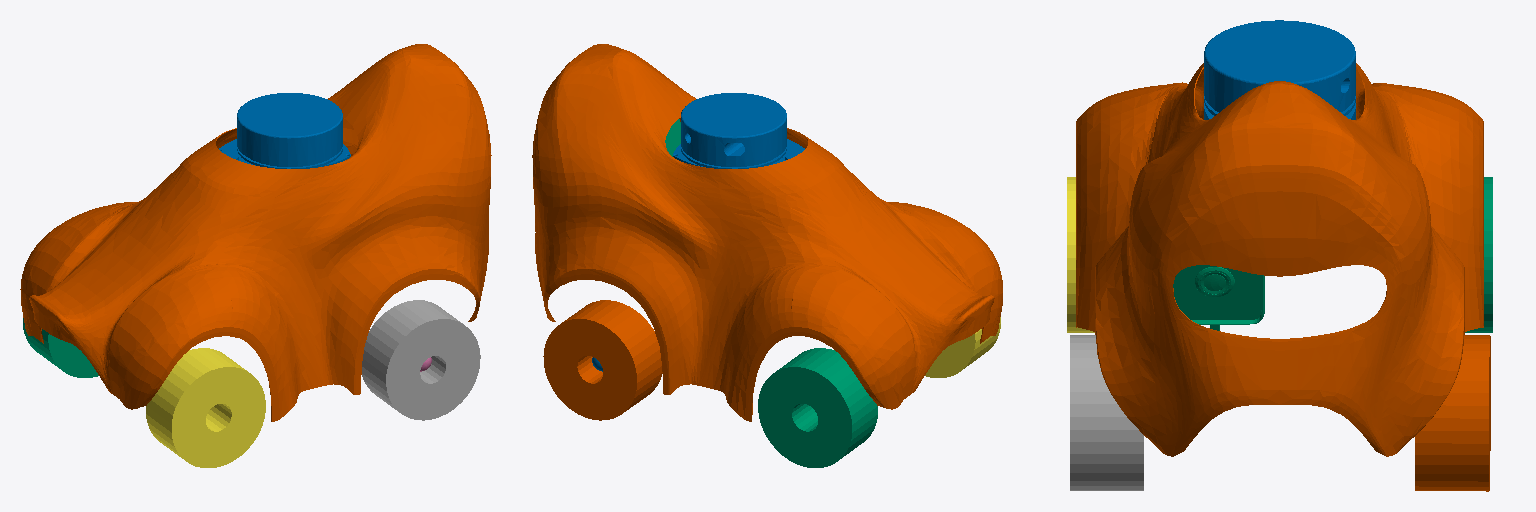
URDF robot description (deepracer_stereo_cam_lidar):
<?xml version="1.0" encoding="utf-8"?>
<!-- This URDF was automatically created by SolidWorks to URDF Exporter! Originally created by [author] ([email redacted]) 
     Commit Version: 1.5.1-0-g916b5db  Build Version: 1.5.7152.31018
     For more information, please see http://wiki.ros.org/sw_urdf_exporter -->
<robot
  name="deepracer_stereo_cam_lidar">

  
  <link 
    name="base_link" />
    
  <link
    name="chassis">
    <inertial>
      <origin
        xyz="0 0 0"
        rpy="0 0 0" />
      <mass
        value="5.0" />
      <inertia
        ixx="0.010609"
        ixy="0"
        ixz="0"
        iyy="0.050409"
        iyz="0"
        izz="0.05865" />
    </inertial>
    <visual>
      <origin
        xyz="0 0 0"
        rpy="0 0 0" />
      <geometry>
        <mesh
          filename="package://pkg/meshes/deepracer/chassis.STL" />
      </geometry>
    </visual>
  </link>
  <gazebo reference = "chassis">
   <material>Gazebo/Grey</material>
  </gazebo>
  
  <joint name="base_link_joint" type="fixed">
    <origin xyz="0 0 0.023249" rpy="0 0 0" />
    <parent link="base_link" />
    <child link="chassis" />
  </joint>
  
  <link
    name="left_rear_wheel">
    <inertial>
      <origin
        xyz="0 0 0"
        rpy="0 0 0" />
      <mass
        value="0.34055" />
      <inertia
        ixx="0.00026046"
        ixy="0"
        ixz="0"
        iyy="0.00041226"
        iyz="0"
        izz="0.00026046" />
    </inertial>
    <visual>
      <origin
        xyz="0 0 0"
        rpy="0 0 0" />
      <geometry>
        <mesh
          filename="package://pkg/meshes/deepracer/left_rear_wheel.STL" />
      </geometry>
    </visual>
    <collision>
      <origin
        xyz="0 0 0"
        rpy="0 0 0" />
      <geometry>
        <mesh
          filename="package://pkg/meshes/deepracer/left_rear_wheel.STL" />
      </geometry>
    </collision>
  </link>
  
  <gazebo reference = "left_rear_wheel">
   <material>Gazebo/Grey</material>
  </gazebo>
  
  <joint
    name="left_rear_wheel_joint"
    type="continuous">
    <origin
      xyz="-0.081663 0.08105 0.01575"
      rpy="0 0 0" />
    <parent
      link="chassis" />
    <child
      link="left_rear_wheel" />
    <axis
      xyz="0 1 0" />
    <limit
      effort="10"
      velocity="100" />
  </joint>
  
  
  <link
    name="right_rear_wheel">
    <inertial>
      <origin
        xyz="0 0 0"
        rpy="0 0 0" />
      <mass
        value="0.34055" />
      <inertia
        ixx="0.00026046"
        ixy="0"
        ixz="0"
        iyy="0.00041226"
        iyz="0"
        izz="0.00026046" />
    </inertial>
    <visual>
      <origin
        xyz="0 0 0"
        rpy="0 0 0" />
      <geometry>
        <mesh
          filename="package://pkg/meshes/deepracer/right_rear_wheel.STL" />
      </geometry>
    </visual>
    <collision>
      <origin
        xyz="0 0 0"
        rpy="0 0 0" />
      <geometry>
        <mesh
          filename="package://pkg/meshes/deepracer/right_rear_wheel.STL" />
      </geometry>
    </collision>
  </link>
  
  <gazebo reference = "right_rear_wheel">
   <material>Gazebo/DarkGrey</material>
  </gazebo>
  <joint
    name="right_rear_wheel_joint"
    type="continuous">
    <origin
      xyz="-0.081663 -0.08105 0.01575"
      rpy="0 0 0" />
    <parent
      link="chassis" />
    <child
      link="right_rear_wheel" />
    <axis
      xyz="0 1 0" />
    <limit
      effort="10"
      velocity="100" />
  </joint>
  
  
  <link
    name="left_steering_hinge">
    <inertial>
      <origin
        xyz="0 0 0"
        rpy="0 0 0" />
      <mass
        value="0.1" />
      <inertia
        ixx="4E-06"
        ixy="0"
        ixz="0"
        iyy="4E-06"
        iyz="0"
        izz="4E-06" />
      </inertial>
    <visual>
      <origin
        xyz="0 0 0"
        rpy="0 0 0" />
      <geometry>
        <mesh
          filename="package://pkg/meshes/deepracer/left_steering_hinge.STL" />
      </geometry>
    </visual>
  </link>
  
  <gazebo reference = "left_steering_hinge">
   <material>Gazebo/DarkGrey</material>
  </gazebo>
  
  <joint
    name="left_steering_hinge_joint"
    type="continuous">
    <origin
      xyz="0.082311 0.079601 0.011759"
      rpy="0 0 0" />
    <parent
      link="chassis" />
    <child
      link="left_steering_hinge" />
    <axis
      xyz="0 0 1" />
    <limit
      lower="-1"
      upper="1"
      effort="10"
      velocity="100" />
  </joint>
  
  
  <link
    name="left_front_wheel">
    <inertial>
      <origin
        xyz="0 0 0"
        rpy="0 0 0" />
      <mass
        value="0.34055" />
      <inertia
        ixx="0.00026046"
        ixy="0"
        ixz="0"
        iyy="0.00041226"
        iyz="0"
        izz="0.00026046" />
    </inertial>
    <visual>
      <origin
        xyz="0 0 0"
        rpy="0 0 0" />
      <geometry>
        <mesh
          filename="package://pkg/meshes/deepracer/left_front_wheel.STL" />
      </geometry>
    </visual>
    <collision>
      <origin
        xyz="0 0 0"
        rpy="0 0 0" />
      <geometry>
        <mesh
          filename="package://pkg/meshes/deepracer/left_front_wheel.STL" />
      </geometry>
    </collision>
  </link>
  
  <gazebo reference = "left_front_wheel">
   <material>Gazebo/DarkGrey</material>
  </gazebo>
  <joint
    name="left_front_wheel_joint"
    type="continuous">
    <origin
      xyz="0 0 0"
      rpy="0 0 0" />
    <parent
      link="left_steering_hinge" />
    <child
      link="left_front_wheel" />
    <axis
      xyz="0 1 0" />
    <limit
      effort="10"
      velocity="100" />
  </joint>
  
  
  <link
    name="right_steering_hinge">
    <inertial>
      <origin
        xyz="0 0 0"
        rpy="0 0 0" />
      <mass
        value="0.1" />
      <inertia
        ixx="4E-06"
        ixy="0"
        ixz="0"
        iyy="4E-06"
        iyz="0"
        izz="4E-06" />
    </inertial>
    <visual>
      <origin
        xyz="0 0 0"
        rpy="0 0 0" />
      <geometry>
        <mesh
          filename="package://pkg/meshes/deepracer/right_steering_hinge.STL" />
      </geometry>
    </visual>
  </link>
  
  <gazebo reference = "right_steering_hinge">
   <material>Gazebo/DarkGrey</material>
  </gazebo>
  
  <joint
    name="right_steering_hinge_joint"
    type="continuous">
    <origin
      xyz="0.082311 -0.079601 0.011759"
      rpy="0 0 0" />
    <parent
      link="chassis" />
    <child
      link="right_steering_hinge" />
    <axis
      xyz="0 0 1" />
    <limit
      lower="-1"
      upper="1"
      effort="10"
      velocity="100" />
  </joint>
  <link
    name="right_front_wheel">
    <inertial>
      <origin
        xyz="0 0 0"
        rpy="0 0 0" />
      <mass
        value="0.34055" />
      <inertia
        ixx="0.00026046"
        ixy="0"
        ixz="0"
        iyy="0.00041226"
        iyz="0"
        izz="0.00026046" />
    </inertial>
    <visual>
      <origin
        xyz="0 0 0"
        rpy="0 0 0" />
      <geometry>
        <mesh
          filename="package://pkg/meshes/deepracer/right_front_wheel.STL" />
      </geometry>
    </visual>
    <collision>
      <origin
        xyz="0 0 0"
        rpy="0 0 0" />
      <geometry>
        <mesh
          filename="package://pkg/meshes/deepracer/right_front_wheel.STL" />
      </geometry>
    </collision>
  </link>
  <gazebo reference = "right_front_wheel">
   <material>Gazebo/DarkGrey</material>
  </gazebo>
  
  <joint
    name="right_front_wheel_joint"
    type="continuous">
    <origin
      xyz="0 0 0"
      rpy="0 0 0" />
    <parent
      link="right_steering_hinge" />
    <child
      link="right_front_wheel" />
    <axis
      xyz="0 1 0" />
    <limit
      effort="10"
      velocity="100" />
  </joint>
  
  <link
    name="zed_camera_link_leftcam">
    <inertial>
      <origin
        xyz="0.019881 6.2875E-05 0.034966"
        rpy="0 0 0" />
      <mass
        value="1e-3" />
      <inertia 
        ixx="1e-6"
        ixy="0"
        ixz="0"
        iyy="1e-6"
        iyz="0"
        izz="1e-6" />
    </inertial>
    <visual>
      <origin
        xyz="0 0 0"
        rpy="0 0 0" />
      <geometry>
        <mesh
          filename="package://pkg/meshes/deepracer/zed_camera_link_leftcam.STL" />
      </geometry>
    </visual>
  </link>
   <gazebo reference = "zed_camera_link_leftcam">
   <material>Gazebo/DarkGrey</material>
  </gazebo>
  
  <joint
    name="zed_camera_joint_leftcam"
    type="fixed">
    <origin
      xyz="0.091711 0.03 0.080023"
      rpy="0 0.2618 0" />
    <parent
      link="chassis" />
    <child
      link="zed_camera_link_leftcam" />
    <axis
      xyz="0 0 0" />
  </joint>
  <link
    name="camera_link_leftcam">
    <inertial>
      <origin
        xyz="0.0005 0 0"
        rpy="0 0 0" />
      <mass
        value="1e-3" />
      <inertia 
        ixx="1e-6"
        ixy="0"
        ixz="0"
        iyy="1e-6"
        iyz="0"
        izz="1e-6" />
    </inertial>
<!--     <visual>
      <origin
        xyz="0 0 0"
        rpy="0 0 0" />
      <geometry>
        <mesh
          filename="package://pkg/meshes/deepracer/camera_link_leftcam.STL" />
      </geometry>
    </visual> -->
  </link>
  <gazebo reference = "camera_link_leftcam">
   <material>Gazebo/White</material>
  </gazebo>
  <joint
    name="camera_joint_leftcam"
    type="fixed">
    <origin
      xyz="0.044755 0 0.04"
      rpy="0 0 0" />
    <parent
      link="zed_camera_link_leftcam" />
    <child
      link="camera_link_leftcam" />
    <axis
      xyz="0 0 0" />
  </joint>
  <link
    name="zed_camera_link_rightcam">
    <inertial>
      <origin
        xyz="0.019881 6.2895E-05 0.034966"
        rpy="0 0 0" />
      <mass
        value="1e-3" />
      <inertia 
        ixx="1e-6"
        ixy="0"
        ixz="0"
        iyy="1e-6"
        iyz="0"
        izz="1e-6" />
    </inertial>
    <visual>
      <origin
        xyz="0 0 0"
        rpy="0 0 0" />
      <geometry>
        <mesh
          filename="package://pkg/meshes/deepracer/zed_camera_link_rightcam.STL" />
      </geometry>
    </visual>
  </link>
  <gazebo reference = "zed_camera_link_rightcam">
   <material>Gazebo/DarkGrey</material>
  </gazebo>
  <joint
    name="zed_camera_joint_rightcam"
    type="fixed">
    <origin
      xyz="0.091711 -0.03 0.080023"
      rpy="0 0.2618 0" />
    <parent
      link="chassis" />
    <child
      link="zed_camera_link_rightcam" />
    <axis
      xyz="0 0 0" />
  </joint>
  <link
    name="camera_link_rightcam">
    <inertial>
      <origin
        xyz="0.0005 0 0"
        rpy="0 0 0" />
      <mass
        value="1e-3" />
      <inertia 
        ixx="1e-6"
        ixy="0"
        ixz="0"
        iyy="1e-6"
        iyz="0"
        izz="1e-6" />
    </inertial>
<!--     <visual>
      <origin
        xyz="0 0 0"
        rpy="0 0 0" />
      <geometry>
        <mesh
          filename="package://pkg/meshes/deepracer/camera_link_rightcam.STL" />
      </geometry>
    </visual> -->
  </link>
  <gazebo reference = "camera_link_rightcam">
   <material>Gazebo/White</material>
  </gazebo>
  <joint
    name="camera_joint_rightcam"
    type="fixed">
    <origin
      xyz="0.044755 0 0.04"
      rpy="0 0 0" />
    <parent
      link="zed_camera_link_rightcam" />
    <child
      link="camera_link_rightcam" />
    <axis
      xyz="0 0 0" />
  </joint>
  <link
    name="laser">
    <inertial>
      <origin
        xyz="0.006099 0.00028423 -0.012654"
        rpy="0 0 0" />
      <mass
        value="1E-5" />
      <inertia
        ixx="1e-6"
        ixy="0"
        ixz="0"
        iyy="1e-6"
        iyz="0"
        izz="1e-6" />
    </inertial>
    <visual>
      <origin
        xyz="0 0 0"
        rpy="0 0 0" />
      <geometry>
        <mesh
          filename="package://pkg/meshes/deepracer/laser.STL" />
      </geometry>
    </visual>
    <collision>
      <origin
        xyz="0 0 0"
        rpy="0 0 0" />
      <geometry>
        <mesh
          filename="package://pkg/meshes/deepracer/laser.STL" />
      </geometry>
    </collision>
  </link>
  <gazebo reference = "laser">
   <material>Gazebo/DarkGrey</material>
  </gazebo>
  <joint
    name="hokuyo_joint"
    type="fixed">
    <origin
      xyz="0.02913 0 0.16145" 
      rpy="0 0 3.1416" />
    <parent
      link="chassis" />
    <child
      link="laser" />
    <axis
      xyz="0 0 0" />
  </joint>
  <link
    name="car_body_link_v3">
    <inertial>
      <origin
        xyz="0 0 0"
        rpy="0 0 0" />
      <mass
        value="0" />
      <inertia
        ixx="0"
        ixy="0"
        ixz="0"
        iyy="0"
        iyz="0"
        izz="0" />
    </inertial>
    <visual>
      <origin
        xyz="0 0 0"
        rpy="0 0 0" />
      <geometry>
        <mesh
          filename="package://pkg/meshes/deepracer/car_body_link_lidar_v3.STL" />
      </geometry>
    </visual>
    <collision>
      <origin
        xyz="0 0 0"
        rpy="0 0 0" />
      <geometry>
        <mesh
          filename="package://pkg/meshes/deepracer/car_body_link_lidar_v3.STL" />
      </geometry>
    </collision>
  </link>
  <gazebo reference = "car_body_link_v3">
   <material>Gazebo/Grey</material>
  </gazebo>
  <joint
    name="car_body_joint"
    type="fixed">
    <origin
      xyz="-0.0762 0 2E-05"
      rpy="0 0 0" />
    <parent
      link="chassis" />
    <child
      link="car_body_link_v3" />
    <axis
      xyz="0 0 0" />
  </joint>
</robot>

--- Facts derived from the render (not from the file) ---
The picture shows the robot from 3 angles, left to right: view 1: azimuth 30°, elevation 25°; view 2: azimuth 150°, elevation 25°; view 3: azimuth 270°, elevation 25°; orthographic projection.
Model deepracer_stereo_cam_lidar with 14 links and 13 joints (6 continuous, 7 fixed), rooted at base_link, posed all joints at 0.
Visible links, largest first — view 1: car_body_link_v3, right_front_wheel, right_rear_wheel, laser, left_rear_wheel; view 2: car_body_link_v3, left_front_wheel, left_rear_wheel, laser, right_rear_wheel; view 3: car_body_link_v3, laser, left_front_wheel, right_front_wheel, zed_camera_link_rightcam, right_rear_wheel, left_rear_wheel.
Boxes of the visible links, left/top/right/bottom form: car_body_link_v3: left=20, top=44, right=491, bottom=421; right_front_wheel: left=362, top=300, right=480, bottom=420; right_rear_wheel: left=146, top=348, right=265, bottom=467; laser: left=219, top=93, right=350, bottom=168; left_rear_wheel: left=23, top=318, right=98, bottom=377; car_body_link_v3: left=532, top=44, right=1002, bottom=421; left_front_wheel: left=543, top=300, right=662, bottom=420; left_rear_wheel: left=758, top=348, right=877, bottom=467; laser: left=673, top=93, right=804, bottom=168; right_rear_wheel: left=925, top=317, right=1000, bottom=377; car_body_link_v3: left=1076, top=63, right=1483, bottom=456; laser: left=1204, top=20, right=1355, bottom=119; left_front_wheel: left=1415, top=335, right=1490, bottom=491; right_front_wheel: left=1070, top=335, right=1143, bottom=490; zed_camera_link_rightcam: left=1173, top=265, right=1264, bottom=330; right_rear_wheel: left=1067, top=177, right=1094, bottom=332; left_rear_wheel: left=1465, top=177, right=1492, bottom=332.
Bounding box of the posed robot: 0.3242 × 0.1961 × 0.2193 m (x, y, z).
Meshes: 11 distinct files referenced, 9 mesh visuals loaded (9 binary STL); not drawn: 2 (reference not matched to a file when rendering).